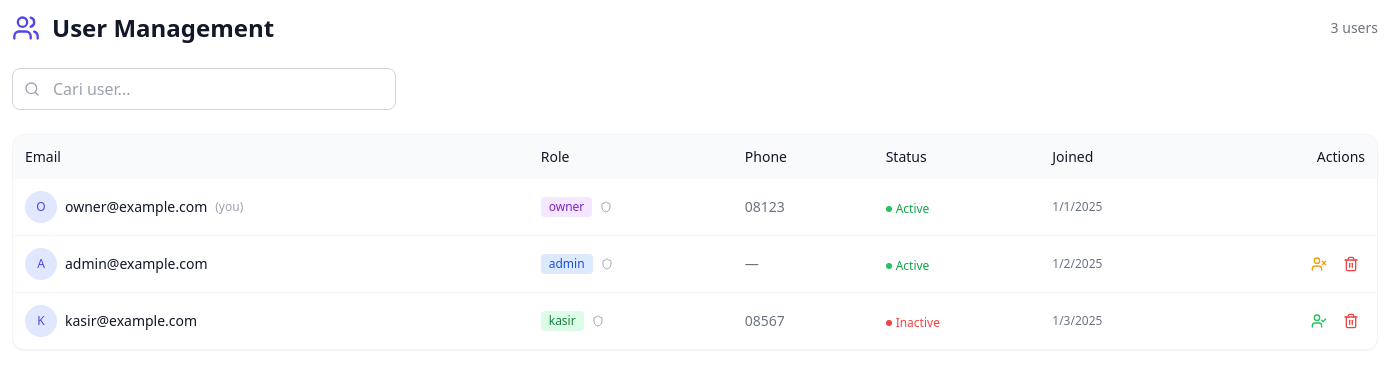
Test case: UsersPage › filters users by search
Expected: the text "owner@example.com" is shown, 65,197 -> 207,217
Type "admin" into the field with placeholder "Cari user..." at (204, 89), box 12,68 -> 396,110
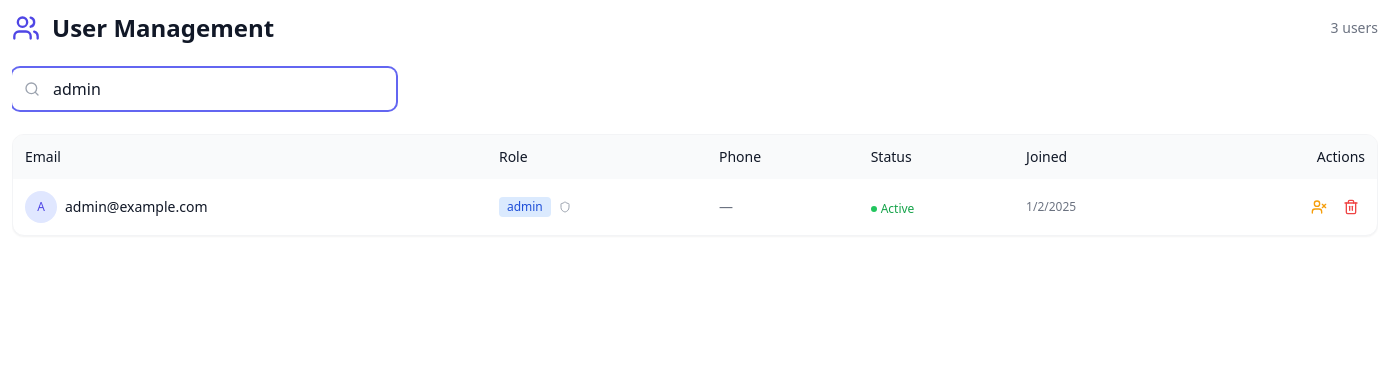
Expected: the text "admin@example.com" is shown, 65,197 -> 208,217
Now the text "kasir@example.com" is gone
